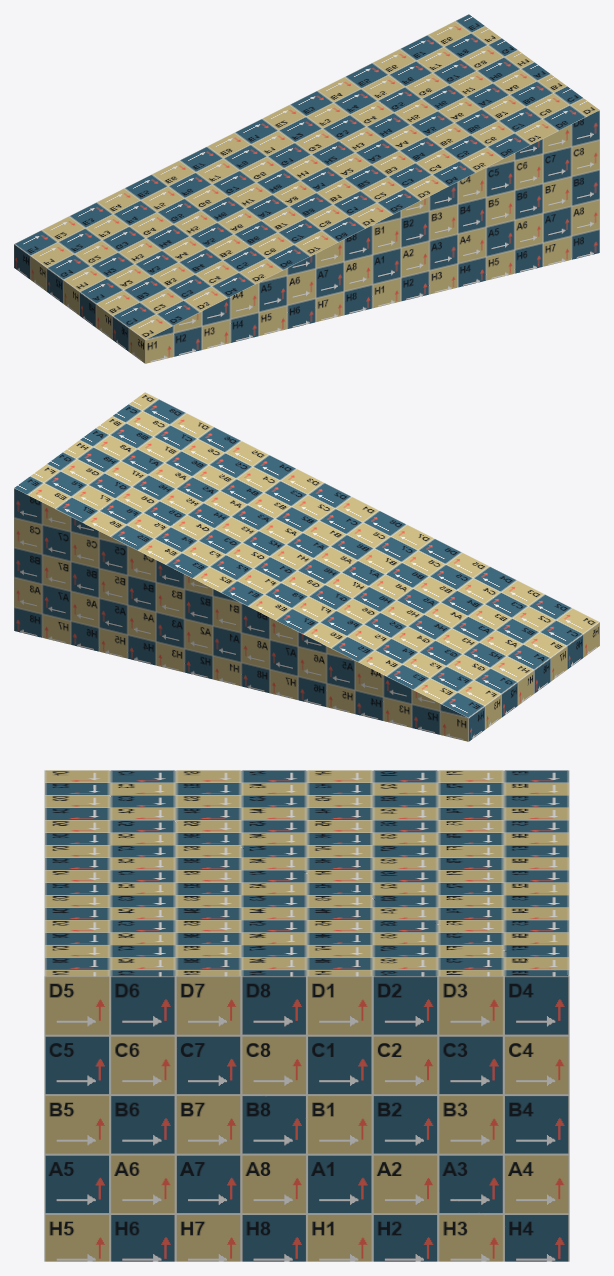
File: FLOOR_Ramp.fbx
3 views of the same model, one above another, from view 1: azimuth 30°, elevation 25°; view 2: azimuth 150°, elevation 25°; view 3: azimuth 270°, elevation 25° (orthographic). The views are drawn at different scales.
Visible parts, largest first — view 1: FLOOR_Ramp; view 2: FLOOR_Ramp; view 3: FLOOR_Ramp.
Part boxes in pixels (x1,y1,x2,y2): FLOOR_Ramp: [14, 14, 599, 363]; FLOOR_Ramp: [14, 392, 599, 741]; FLOOR_Ramp: [44, 770, 569, 1261].
Size of the model in its own units: 400 by 120 by 200.
Materials: 1 (1 with a texture image).
